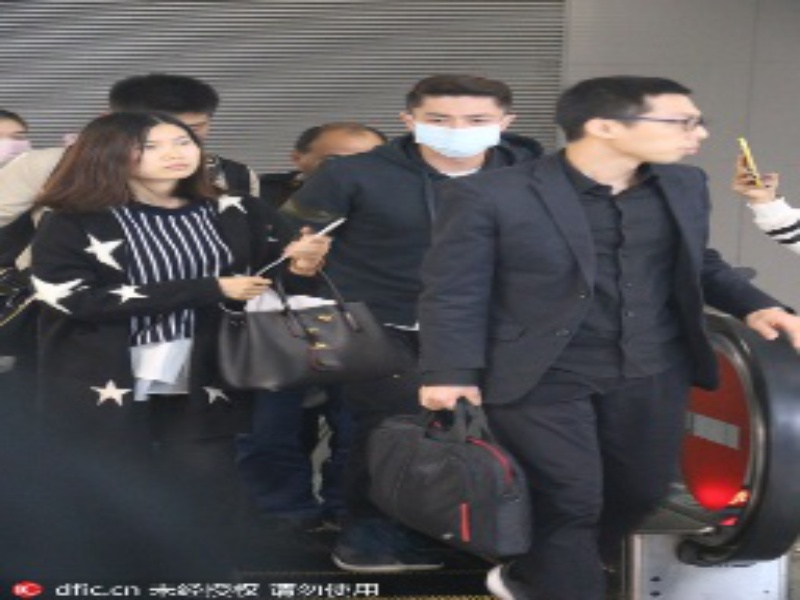TsisyArotava: (587, 58, 724, 199), (391, 58, 522, 182), (96, 104, 217, 216)
